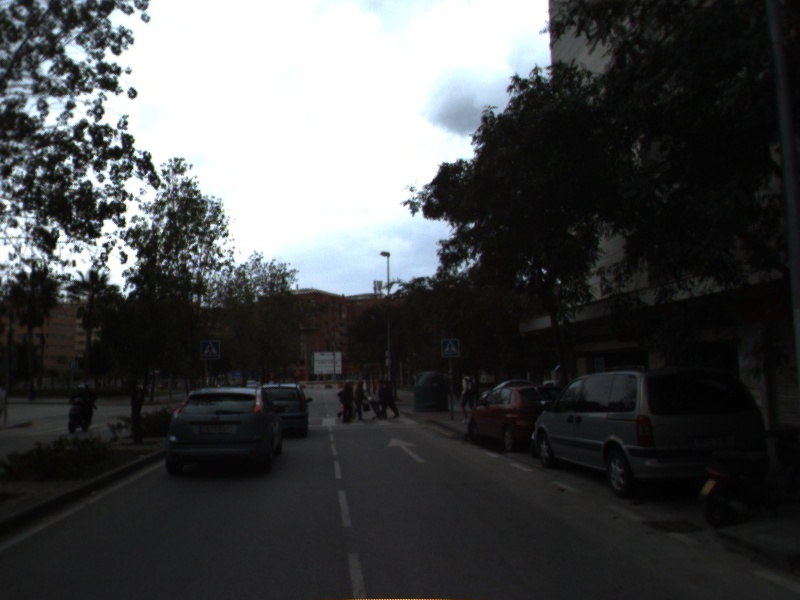STRAIGHT: (386, 435, 429, 465)
